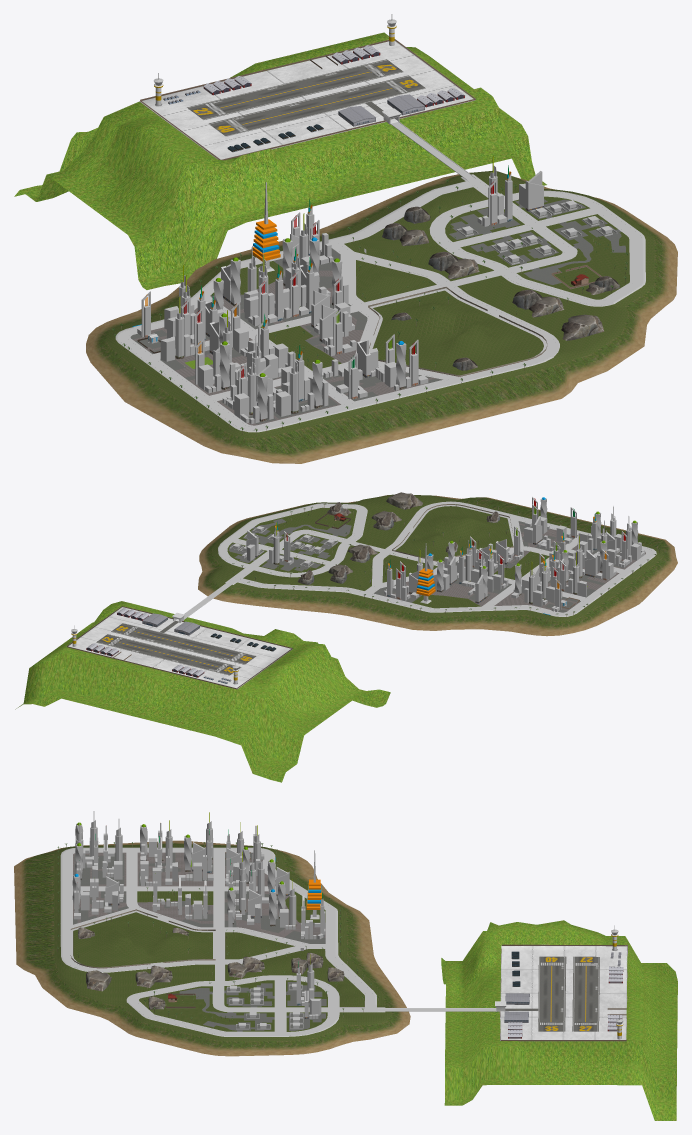
Rendered from CITY ENVIRONMENT.FBX.
3 renders of one model, top to bottom at view 1: azimuth 30°, elevation 25°; view 2: azimuth 150°, elevation 25°; view 3: azimuth 270°, elevation 25°, orthographic. The views are drawn at different scales.
Parts seen in each view (by area): view 1: Airport_island, town_sandbeach_b, town_gd_area_2j, town_newroad_d, town_newroad_c, NewYork_Buildings_pCube107, NewYork_Buildings_pCube281, NewYork_Buildings_pCube120, NewYork_Buildings_pCube402, NewYork_Buildings_pCube348, pCube510, NewYork_Buildings_pCube88 (+16 smaller); view 2: Airport_island, town_sandbeach_b, town_gd_area_2j, town_newroad_d, town_newroad_c, NewYork_Buildings_pCube107, NewYork_Buildings_pCube120, NewYork_Buildings_pCube281, pCube510, NewYork_Buildings_pCube348, NewYork_Buildings_pCube14, NewYork_Buildings_pCube402 (+13 smaller); view 3: Airport_island, town_sandbeach_b, town_gd_area_2j, town_newroad_d, town_newroad_c, NewYork_Buildings_pCube291, NewYork_Buildings_pCube402, NewYork_Buildings_pCube120, pCube510, NewYork_Buildings_pCube348, NewYork_Buildings_pCube387, NewYork_Buildings_pCube107 (+13 smaller).
Boxes of the visible parts, x1=… form: Airport_island: x1=14, y1=32, x2=546, y2=289; town_sandbeach_b: x1=86, y1=171, x2=677, y2=463; town_gd_area_2j: x1=128, y1=185, x2=632, y2=426; town_newroad_d: x1=256, y1=121, x2=642, y2=363; town_newroad_c: x1=118, y1=259, x2=531, y2=430; NewYork_Buildings_pCube107: x1=273, y1=345, x2=367, y2=416; NewYork_Buildings_pCube281: x1=244, y1=246, x2=314, y2=326; NewYork_Buildings_pCube120: x1=195, y1=314, x2=295, y2=393; NewYork_Buildings_pCube402: x1=357, y1=334, x2=428, y2=390; NewYork_Buildings_pCube348: x1=160, y1=294, x2=229, y2=361; pCube510: x1=477, y1=155, x2=543, y2=226; NewYork_Buildings_pCube88: x1=234, y1=352, x2=273, y2=423; Airport_island: x1=15, y1=601, x2=390, y2=782; town_sandbeach_b: x1=198, y1=494, x2=677, y2=636; town_gd_area_2j: x1=226, y1=505, x2=647, y2=613; town_newroad_d: x1=184, y1=502, x2=466, y2=619; town_newroad_c: x1=415, y1=504, x2=654, y2=615; NewYork_Buildings_pCube107: x1=556, y1=506, x2=623, y2=553; NewYork_Buildings_pCube120: x1=549, y1=532, x2=616, y2=580; NewYork_Buildings_pCube281: x1=464, y1=539, x2=508, y2=590; pCube510: x1=242, y1=521, x2=293, y2=565; NewYork_Buildings_pCube348: x1=551, y1=550, x2=586, y2=597; NewYork_Buildings_pCube14: x1=384, y1=559, x2=420, y2=600; NewYork_Buildings_pCube402: x1=523, y1=496, x2=549, y2=544; Airport_island: x1=441, y1=920, x2=677, y2=1120; town_sandbeach_b: x1=14, y1=840, x2=410, y2=1056; town_gd_area_2j: x1=71, y1=852, x2=366, y2=1032; town_newroad_d: x1=63, y1=918, x2=496, y2=1035; town_newroad_c: x1=63, y1=848, x2=335, y2=955; NewYork_Buildings_pCube291: x1=227, y1=879, x2=296, y2=929; NewYork_Buildings_pCube402: x1=72, y1=874, x2=119, y2=919; NewYork_Buildings_pCube120: x1=140, y1=823, x2=162, y2=885; pCube510: x1=296, y1=954, x2=321, y2=1018; NewYork_Buildings_pCube348: x1=184, y1=812, x2=213, y2=872; NewYork_Buildings_pCube387: x1=257, y1=852, x2=289, y2=903; NewYork_Buildings_pCube107: x1=75, y1=823, x2=98, y2=897.
Size of the model in its own units: 37289 by 10618 by 46024.
